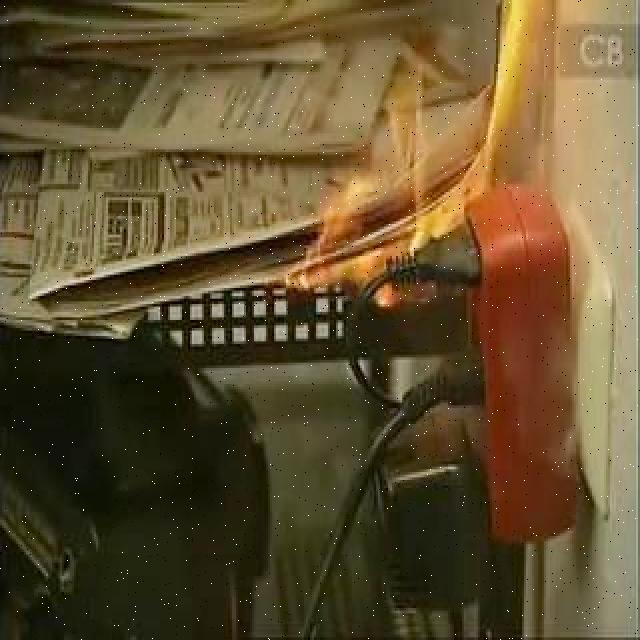fire: (309, 84, 520, 295)
